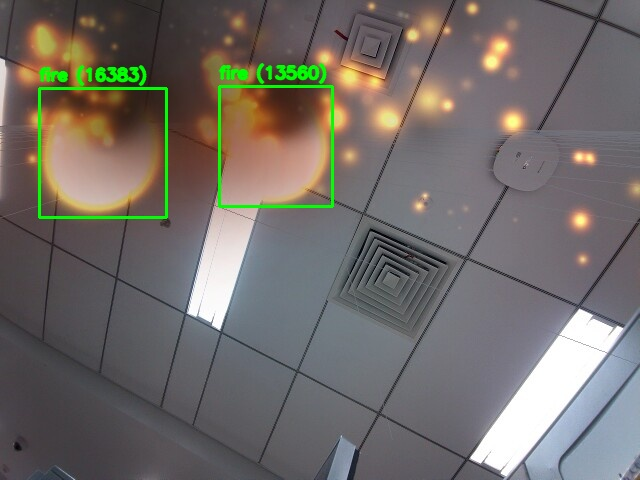fire: (39, 88, 166, 217), (219, 86, 332, 206)
